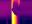Hotspot: (12, 11, 17, 23)
